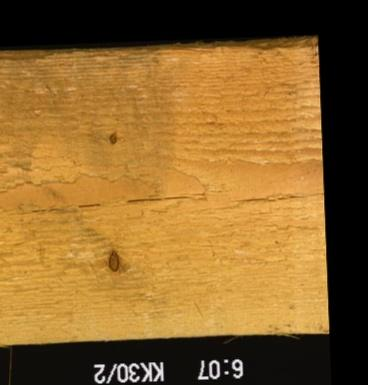dry_knot: (106, 246, 120, 272)
split: (126, 195, 200, 203), (228, 195, 276, 205), (78, 201, 101, 209)
wave: (216, 35, 317, 50)
